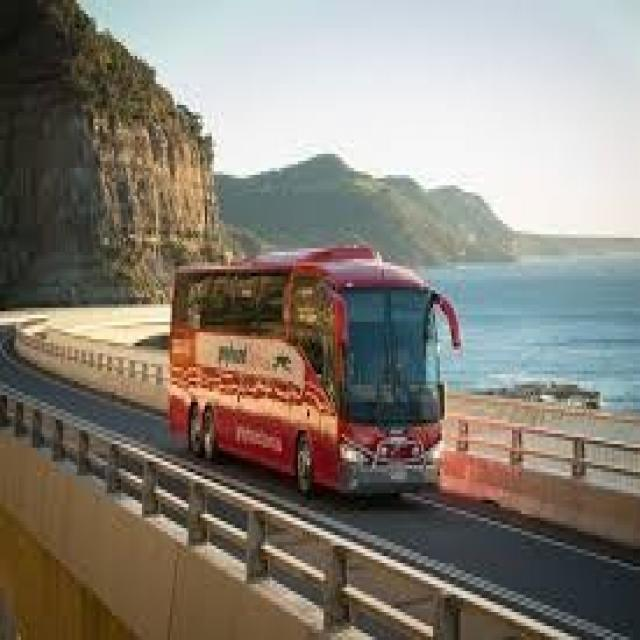bus: (159, 240, 463, 507)
